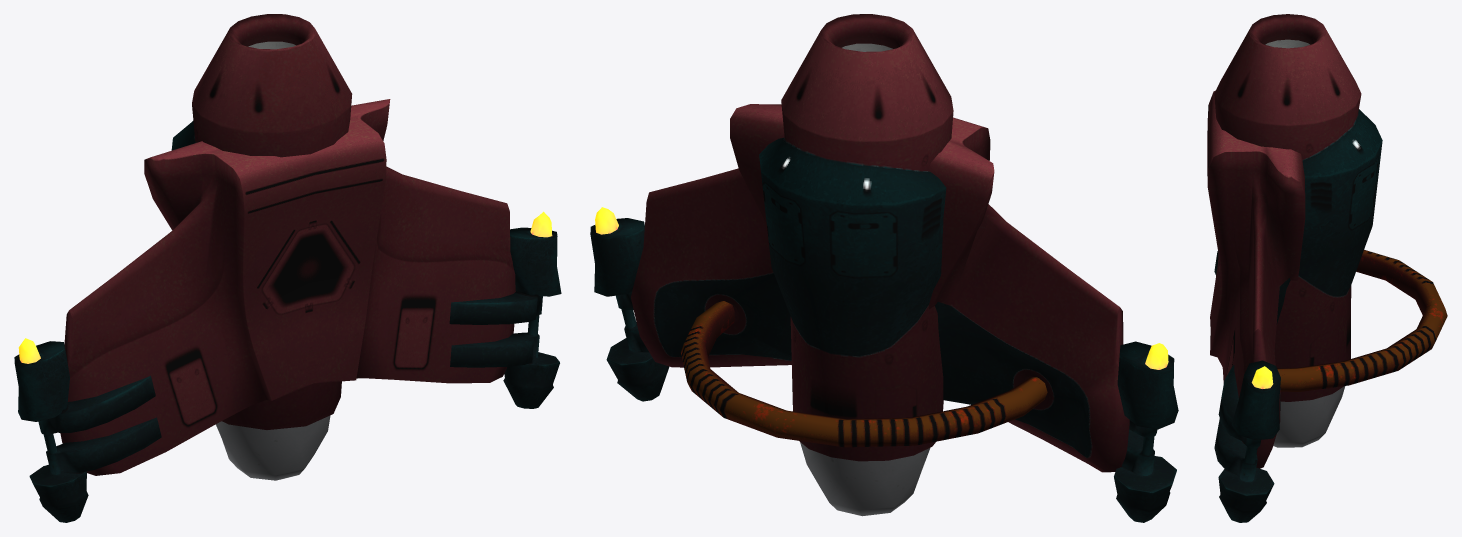
The model's file is Rocket Pack.FBX.
3 views of the same model, side by side, from view 1: azimuth 30°, elevation 25°; view 2: azimuth 150°, elevation 25°; view 3: azimuth 270°, elevation 25° (orthographic). The views are drawn at different scales.
Visible parts, largest first — view 1: Tier_2_Rocket_Pack_Ver1; view 2: Tier_2_Rocket_Pack_Ver1; view 3: Tier_2_Rocket_Pack_Ver1.
Boxes of the visible parts, <box> form: Tier_2_Rocket_Pack_Ver1: <box>14,14,561,522</box>; Tier_2_Rocket_Pack_Ver1: <box>590,14,1178,522</box>; Tier_2_Rocket_Pack_Ver1: <box>1207,14,1447,522</box>.
Bounding box in the file's own units: 60.46 × 46.33 × 25.01.
